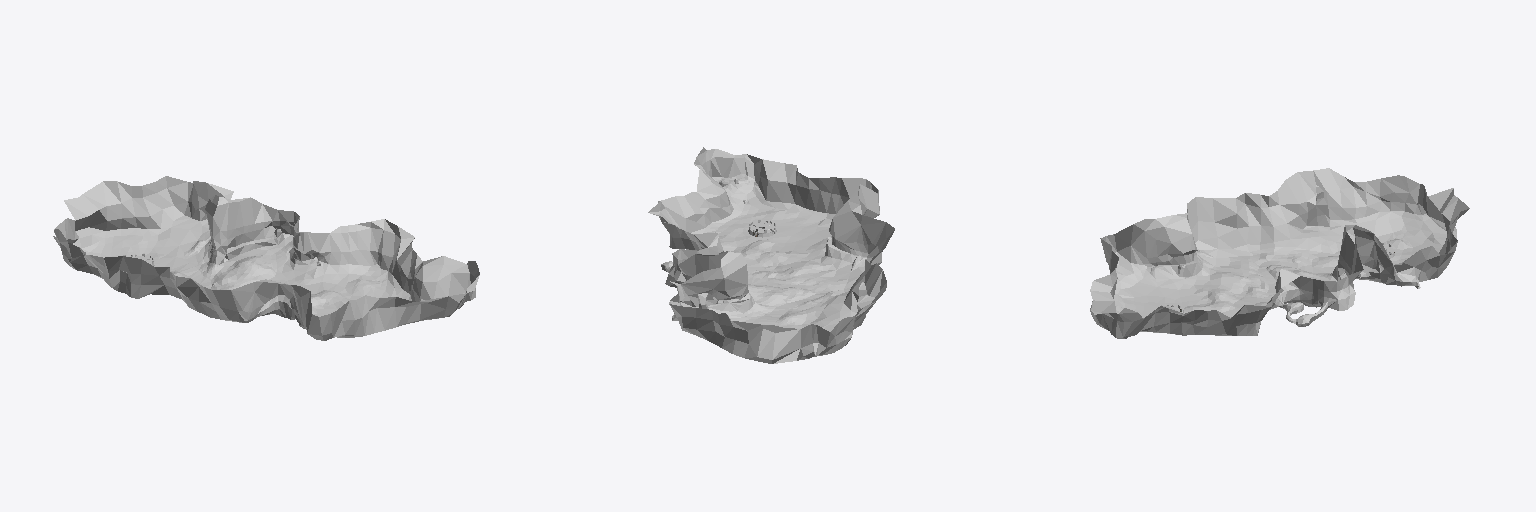
3 views of the same model, side by side, from view 1: azimuth 30°, elevation 25°; view 2: azimuth 150°, elevation 25°; view 3: azimuth 270°, elevation 25° (orthographic).
Parts seen in each view (by area): view 1: bloodgulch.001; view 2: bloodgulch.001; view 3: bloodgulch.001.
Part boxes in pixels (x1,y1,x2,y2): bloodgulch.001: (53,176,479,340); bloodgulch.001: (648,147,894,363); bloodgulch.001: (1090,168,1469,338).
Size of the model in its own units: 384 by 81.02 by 442.
Materials: 14 (5 with a texture image).